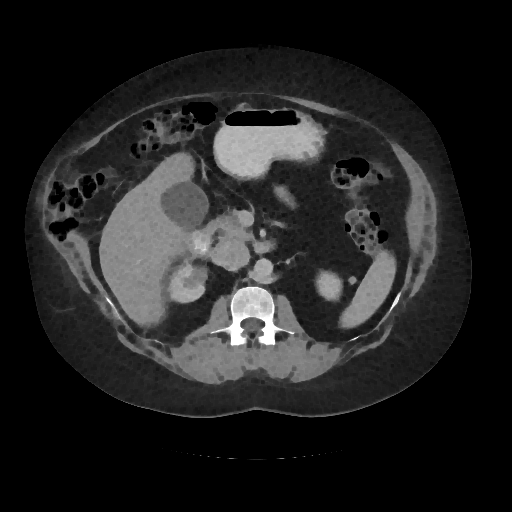Lesion: (179, 265, 210, 290)
